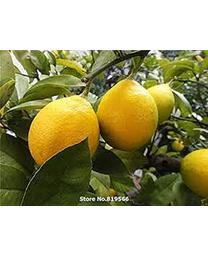lemon: (28, 96, 99, 164), (98, 81, 159, 153), (180, 148, 207, 196)
